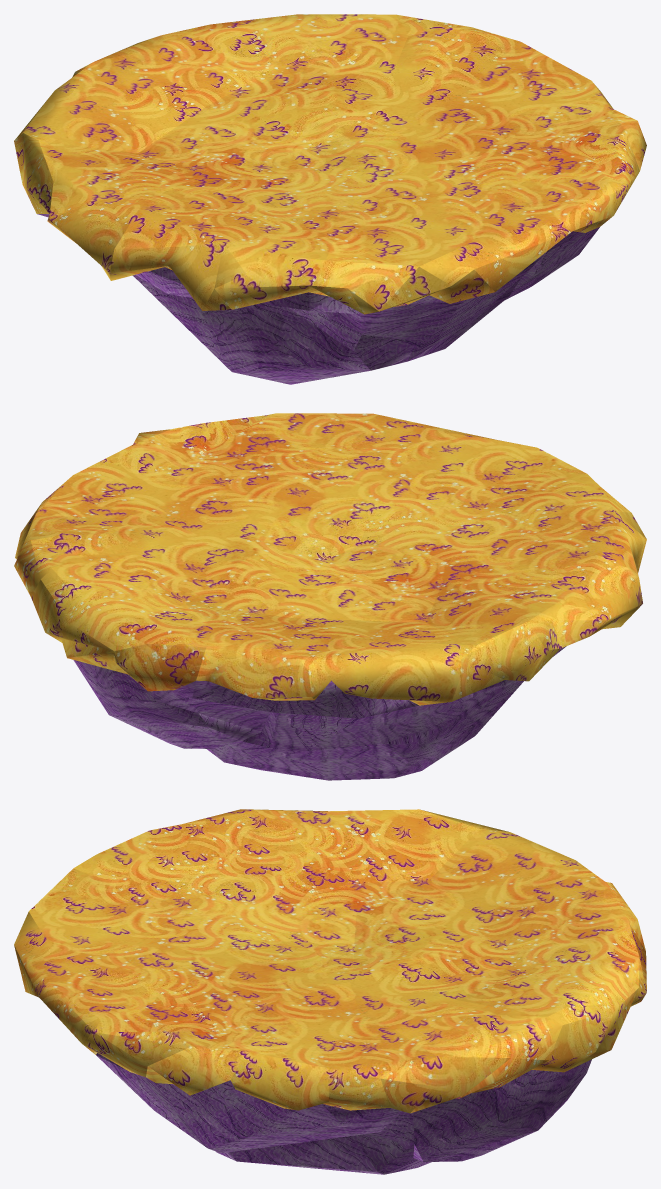
Rendered from entity139098.gltf.
The picture shows the model from 3 angles, top to bottom: view 1: azimuth 30°, elevation 25°; view 2: azimuth 150°, elevation 25°; view 3: azimuth 270°, elevation 25°; orthographic projection.
Parts seen in each view (by area): view 1: node_Terrain_Island_01 (4); view 2: node_Terrain_Island_01 (4); view 3: node_Terrain_Island_01 (4).
Boxes of the visible parts, <box> form: node_Terrain_Island_01 (4): <box>14,14,646,384</box>; node_Terrain_Island_01 (4): <box>14,413,646,780</box>; node_Terrain_Island_01 (4): <box>14,809,646,1174</box>.
Size of what is drawn, in the model's own units: 14.79 by 5.6 by 14.49.
